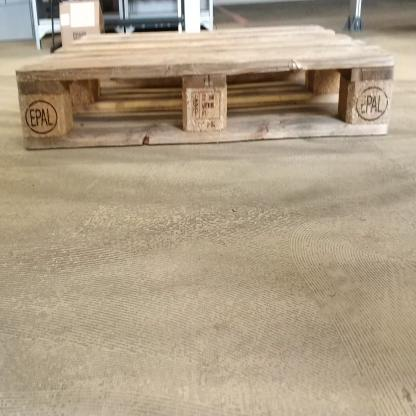BoxFace: (8, 18, 400, 157)
